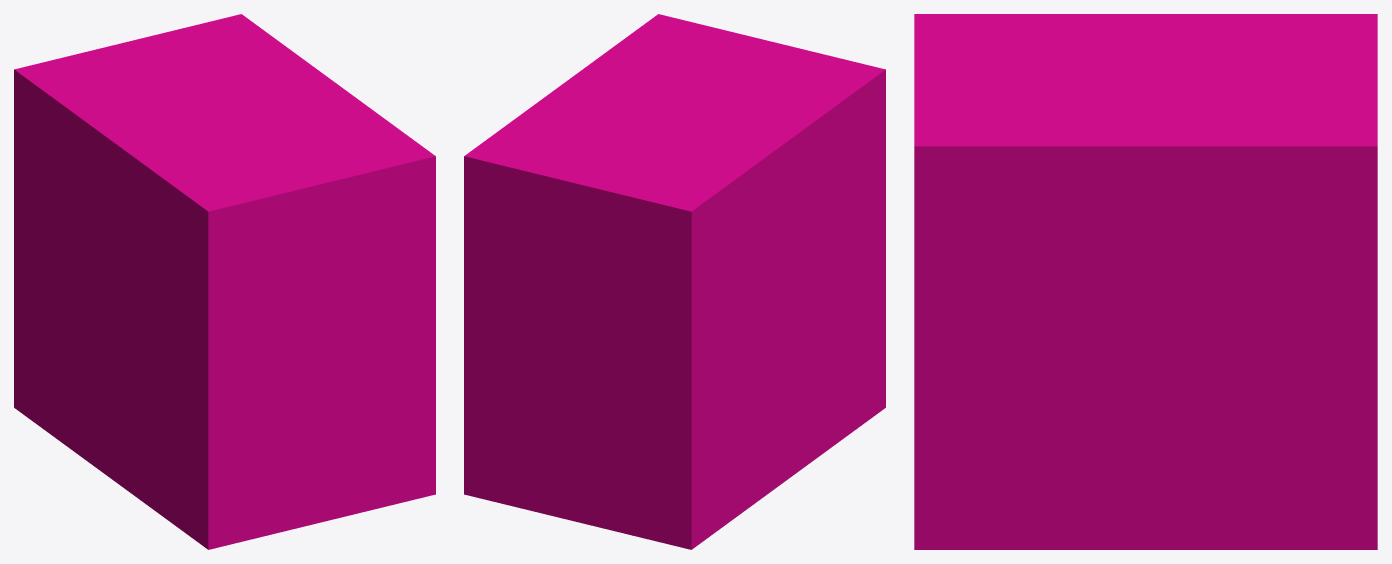
Rendered from Cupboard_01.fbx.
The picture shows the model from 3 angles, left to right: view 1: azimuth 30°, elevation 25°; view 2: azimuth 150°, elevation 25°; view 3: azimuth 270°, elevation 25°; orthographic projection. The views are drawn at different scales.
Visible parts, largest first — view 1: Cupboard_01; view 2: Cupboard_01; view 3: Cupboard_01.
Part boxes in pixels (x1,y1,x2,y2): Cupboard_01: (14, 14, 435, 549); Cupboard_01: (464, 14, 885, 549); Cupboard_01: (914, 14, 1377, 549).
Bounding box in the file's own units: 282 × 400 × 417.
